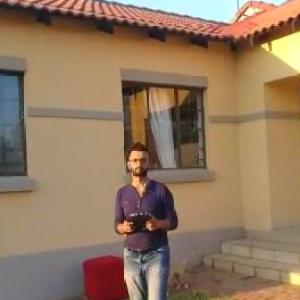follow: (109, 137, 189, 299)
